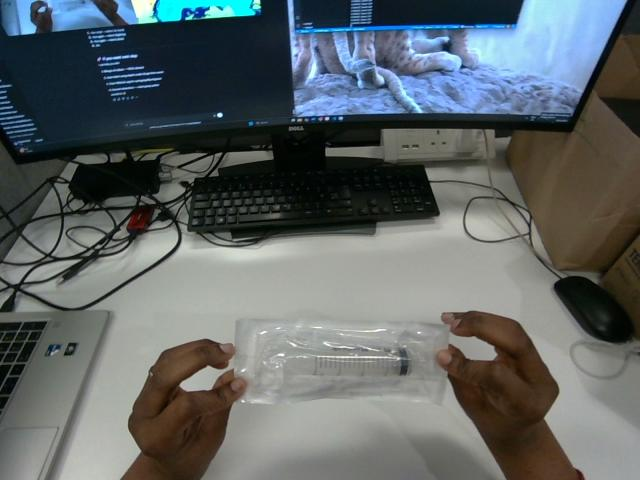syringe: (235, 319, 448, 403)
